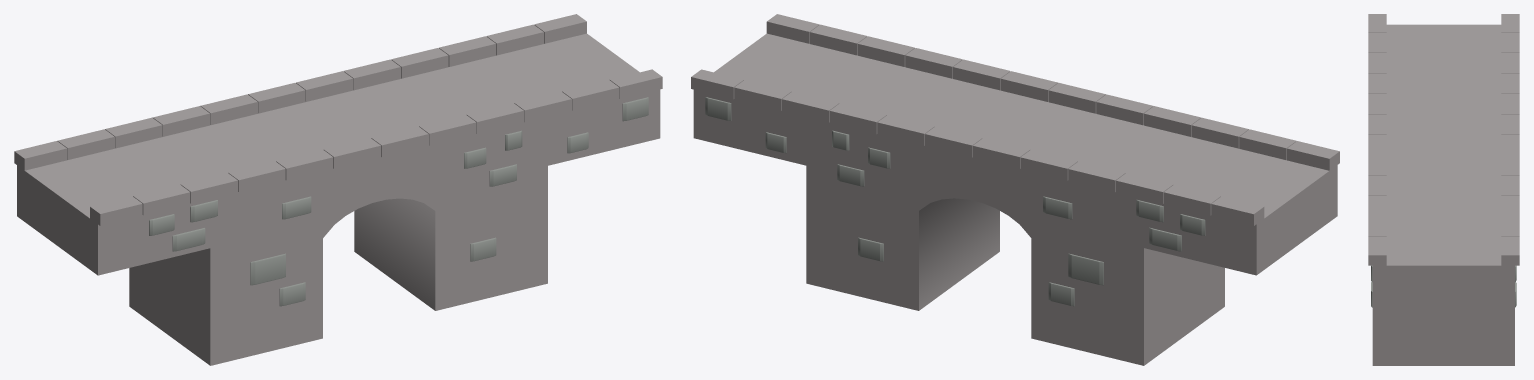
Rendered from StoneBridge2.fbx.
The picture shows the model from 3 angles, left to right: view 1: azimuth 30°, elevation 25°; view 2: azimuth 150°, elevation 25°; view 3: azimuth 270°, elevation 25°; orthographic projection. The views are drawn at different scales.
Visible parts, largest first — view 1: Cube.028; view 2: Cube.028; view 3: Cube.028.
Boxes of the visible parts, x1,y1,x2,y2 form: Cube.028: (14,14,662,365); Cube.028: (691,14,1339,365); Cube.028: (1368,14,1519,365).
Bounding box in the file's own units: 802 × 247 × 212.
Materials: 1 (1 with a texture image).
